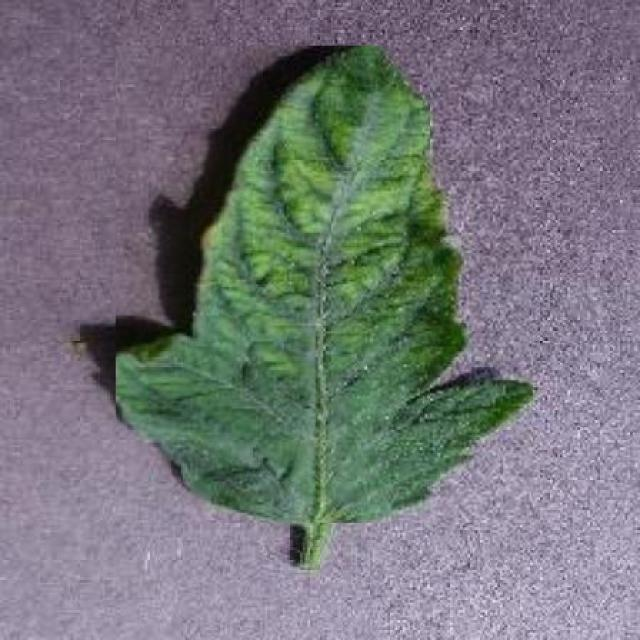Mosaic Virus: (116, 46, 534, 524)
